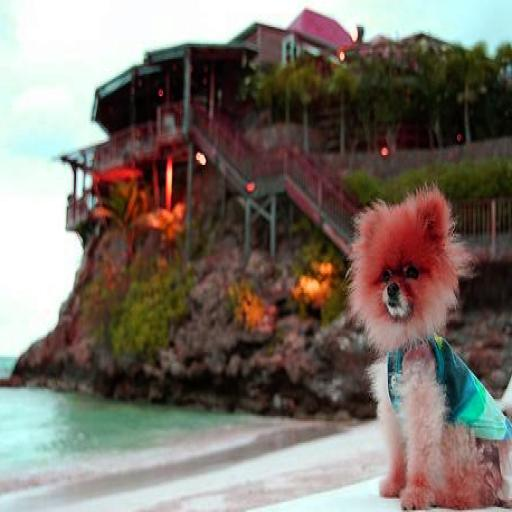dog_face: (358, 188, 456, 338)
